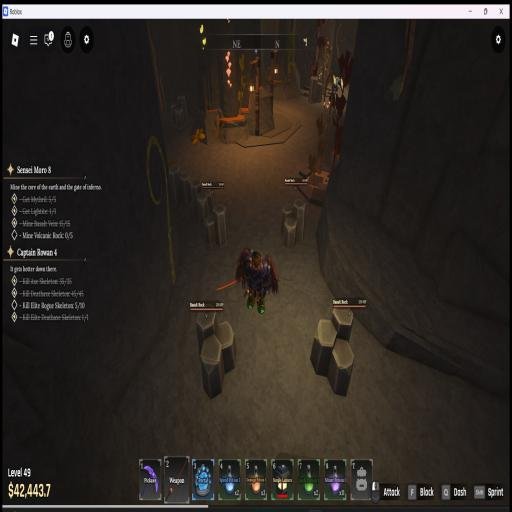player: (235, 248, 279, 313)
rock: (310, 309, 354, 396), (196, 312, 236, 371), (200, 334, 225, 398), (281, 199, 305, 249), (205, 205, 227, 247), (192, 180, 213, 223), (169, 165, 190, 203), (170, 96, 188, 128), (308, 77, 323, 102)
